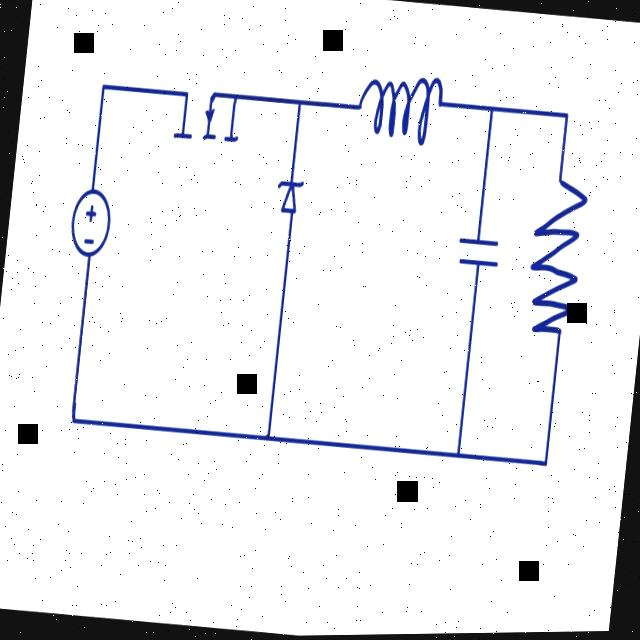capacitor: (452, 216, 509, 297)
diode: (263, 166, 314, 244)
inductor: (341, 37, 456, 172)
mosfet: (163, 59, 250, 175)
resistor: (514, 149, 595, 363)
source: (62, 162, 122, 281)
